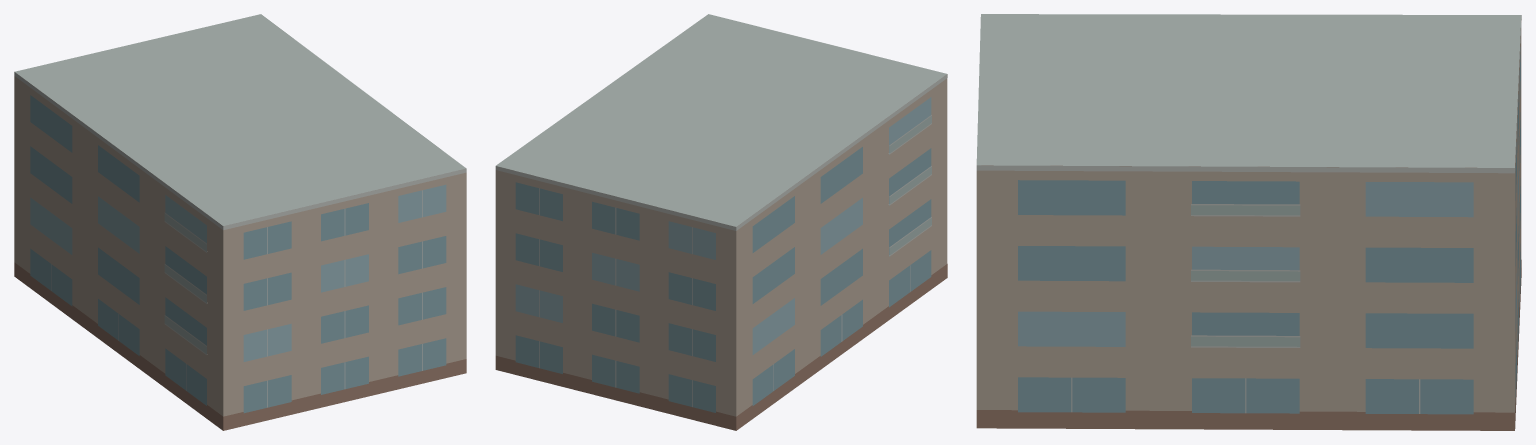
File: survey-upis-32840584.glb
3 views of the same model, side by side, from view 1: azimuth 30°, elevation 25°; view 2: azimuth 150°, elevation 25°; view 3: azimuth 270°, elevation 25° (orthographic). The views are drawn at different scales.
Parts seen in each view (by area): view 1: survey-upis-32840584.tmp; view 2: survey-upis-32840584.tmp; view 3: survey-upis-32840584.tmp.
Part boxes in pixels (box(x1,y1,x2,y2)): survey-upis-32840584.tmp: box(14, 14, 466, 430); survey-upis-32840584.tmp: box(495, 14, 947, 430); survey-upis-32840584.tmp: box(976, 14, 1521, 430).
Bounding box in the file's own units: 15.36 × 12.2 × 22.92.
